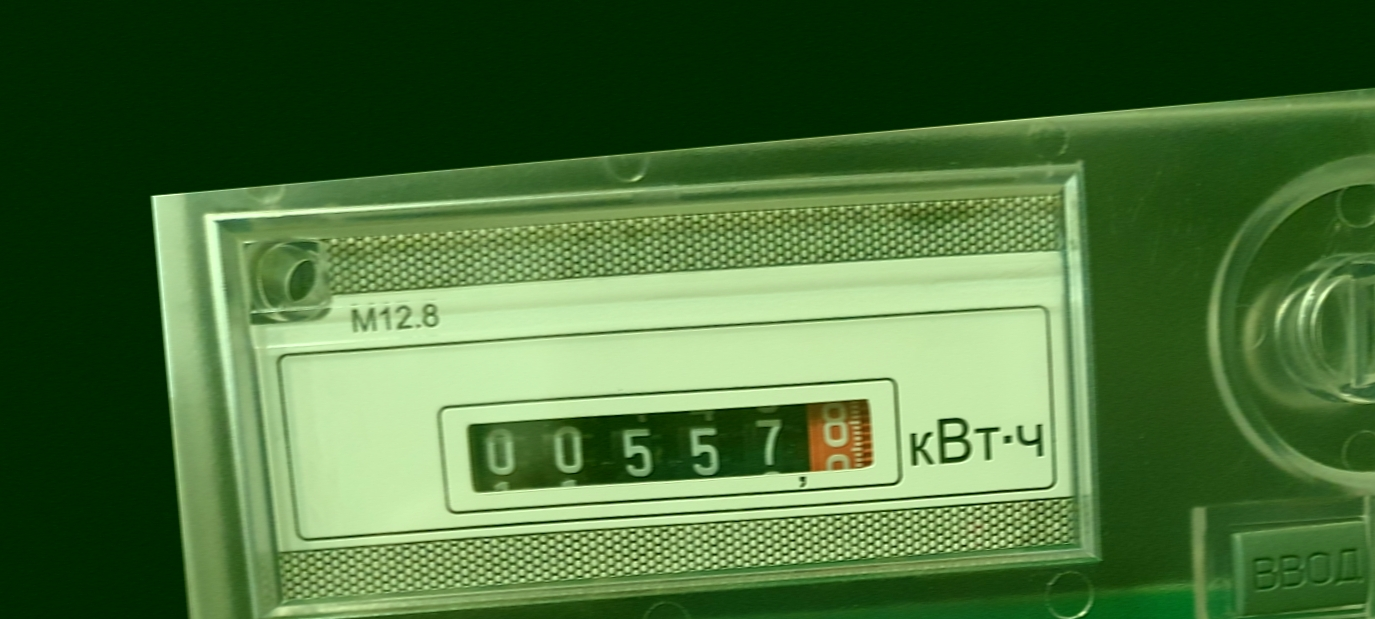0: (480, 421, 519, 480), (548, 420, 586, 475)
5: (683, 417, 725, 479), (617, 421, 656, 480)
7: (748, 411, 785, 469)
8: (818, 398, 850, 450)
screen: (431, 357, 909, 529)
